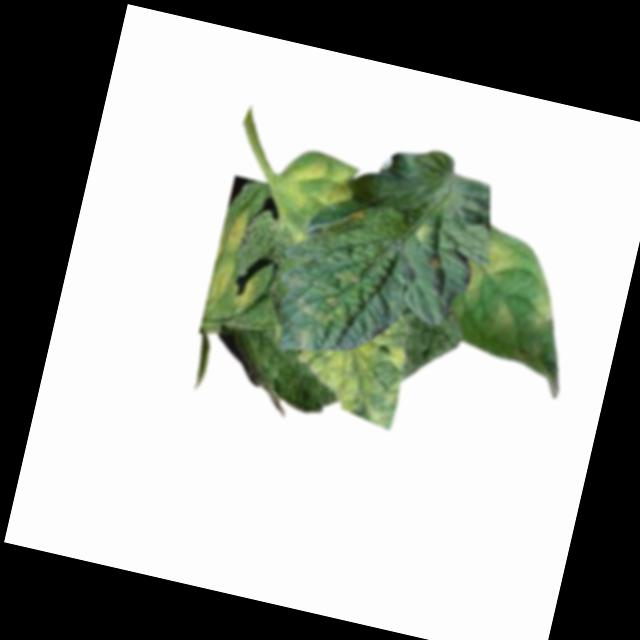Leaf_Mold: (283, 296, 415, 431), (272, 142, 362, 222), (457, 232, 522, 303), (295, 281, 355, 328), (523, 274, 562, 328), (204, 250, 239, 305), (218, 207, 253, 256), (228, 271, 258, 311), (488, 300, 520, 337), (330, 261, 366, 290), (410, 218, 434, 246), (346, 204, 371, 228)
